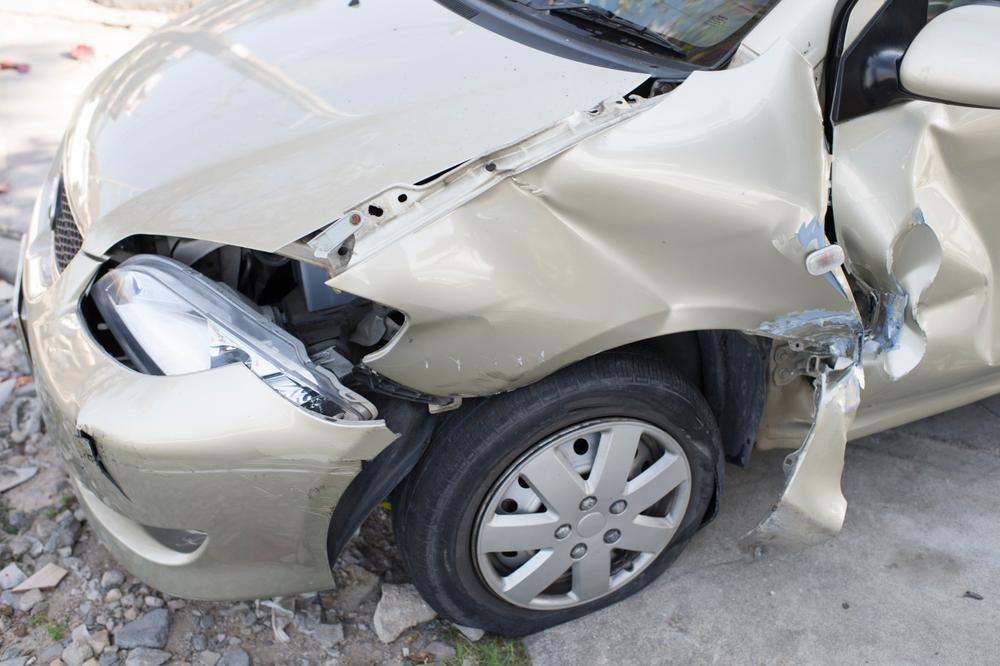crack: (77, 427, 134, 508)
dent: (371, 109, 823, 394), (837, 107, 999, 376)
lamp broken: (77, 236, 406, 410)
scratch: (149, 450, 365, 528), (751, 307, 860, 363)
tire flat: (389, 356, 725, 635)
